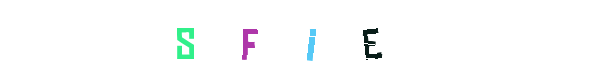E: (330, 0, 410, 80)
F: (212, 0, 292, 80)
I: (260, 0, 340, 80)
S: (188, 0, 268, 80)
